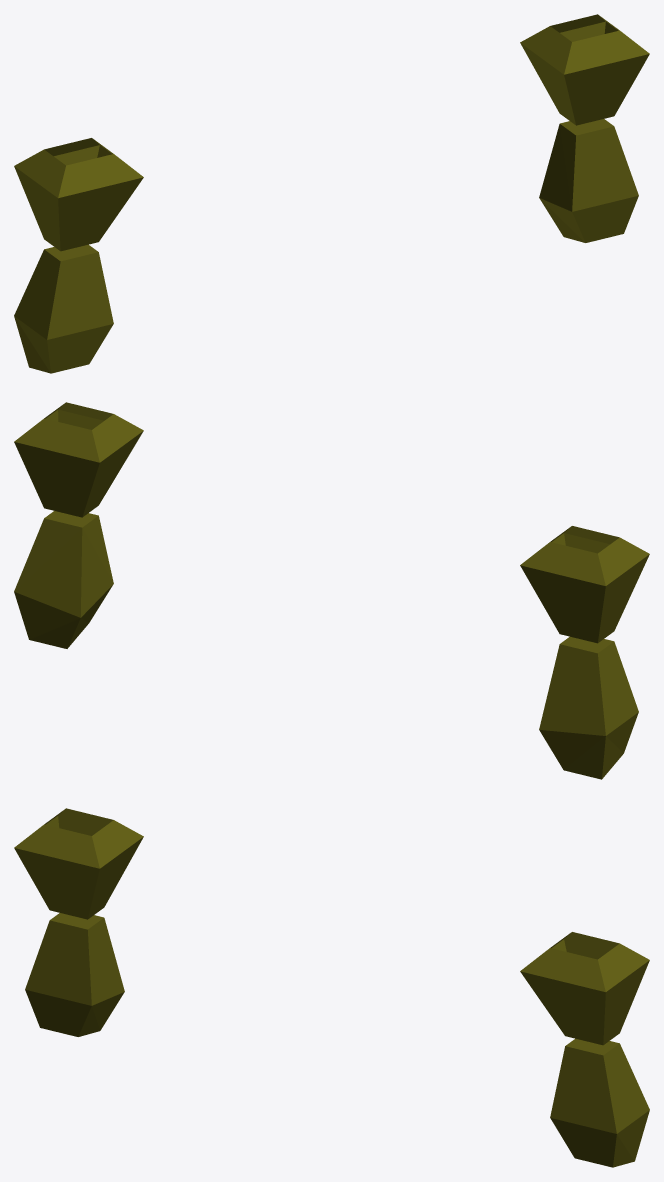
File: npc_world_zenesha_3.obj
The picture shows the model from 3 angles, top to bottom: view 1: azimuth 30°, elevation 25°; view 2: azimuth 150°, elevation 25°; view 3: azimuth 330°, elevation 25°; orthographic projection.
Size of the model in its own units: 0.4844 by 0.1719 by 0.0625.
